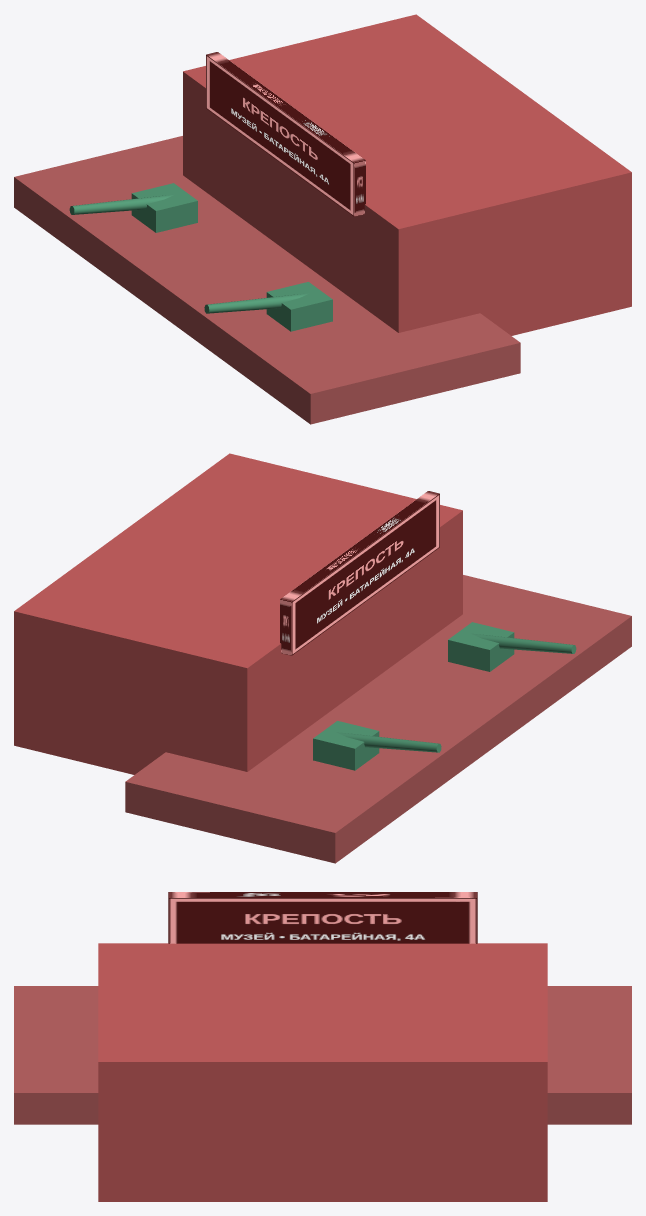
File: fortress_museum.glb
3 renders of one model, top to bottom at view 1: azimuth 30°, elevation 25°; view 2: azimuth 150°, elevation 25°; view 3: azimuth 270°, elevation 25°, orthographic. The views are drawn at different scales.
Visible parts, largest first — view 1: bunker, parapet, fortSign, cannonMount_1, cannonMount_0, cannonBarrel_1, cannonBarrel_0; view 2: bunker, parapet, fortSign, cannonMount_0, cannonMount_1, cannonBarrel_0, cannonBarrel_1; view 3: bunker, parapet, fortSign.
Boxes of the visible parts, left/top/right/bottom form: bunker: left=183, top=14, right=631, bottom=335; parapet: left=14, top=136, right=520, bottom=424; fortSign: left=206, top=52, right=365, bottom=216; cannonMount_1: left=266, top=282, right=332, bottom=331; cannonMount_0: left=131, top=183, right=197, bottom=232; cannonBarrel_1: left=204, top=293, right=309, bottom=313; cannonBarrel_0: left=69, top=194, right=174, bottom=214; bunker: left=14, top=453, right=462, bottom=774; parapet: left=125, top=575, right=631, bottom=863; fortSign: left=280, top=491, right=439, bottom=655; cannonMount_0: left=313, top=721, right=379, bottom=770; cannonMount_1: left=448, top=622, right=514, bottom=671; cannonBarrel_0: left=336, top=732, right=441, bottom=752; cannonBarrel_1: left=471, top=633, right=576, bottom=653; bunker: left=98, top=943, right=547, bottom=1201; parapet: left=14, top=986, right=631, bottom=1124; fortSign: left=168, top=892, right=477, bottom=943.
Size of the model in its own units: 16.5 by 7.3 by 22.
Materials: 4 (1 with a texture image).
